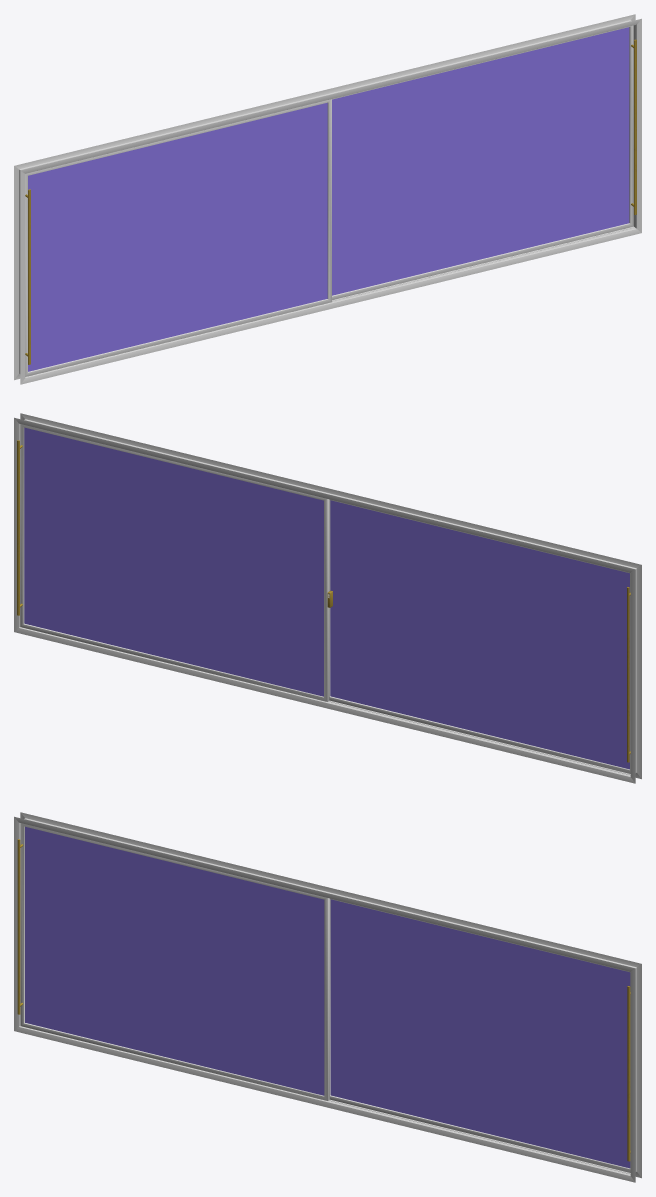
Rendered from janela.glb.
The picture shows the model from 3 angles, top to bottom: view 1: azimuth 30°, elevation 25°; view 2: azimuth 150°, elevation 25°; view 3: azimuth 330°, elevation 25°; orthographic projection.
Visible parts, largest first — view 1: Window2, Window, Wndow Frame; view 2: Window, Window2, Wndow Frame; view 3: Window2, Window, Wndow Frame.
Part boxes in pixels (bbox=[...]): Window2: bbox=[25, 99, 331, 376]; Window: bbox=[332, 25, 636, 299]; Wndow Frame: bbox=[14, 14, 641, 384]; Window: bbox=[17, 424, 332, 701]; Window2: bbox=[329, 499, 630, 773]; Wndow Frame: bbox=[14, 413, 641, 783]; Window2: bbox=[17, 823, 329, 1100]; Window: bbox=[330, 898, 635, 1172]; Wndow Frame: bbox=[14, 812, 641, 1182].
Bounding box in the file's own units: 5.8 × 1.91 × 0.1886.
Materials: 3 (2 with a texture image).
